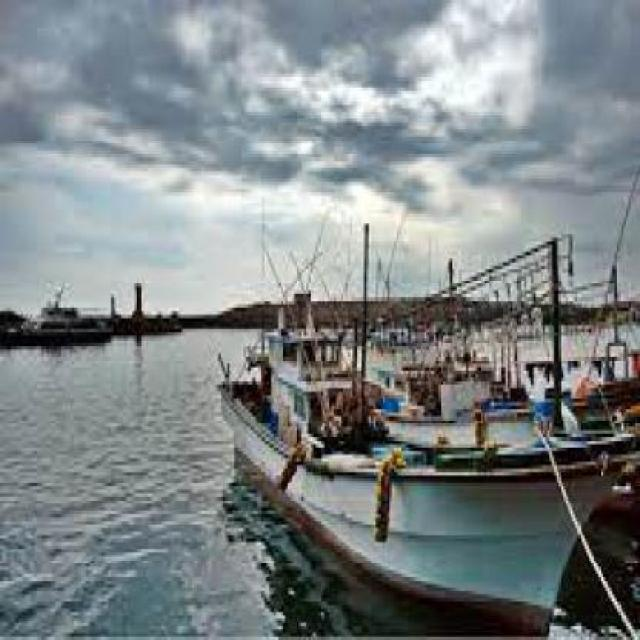fish-b: (205, 214, 620, 637)
